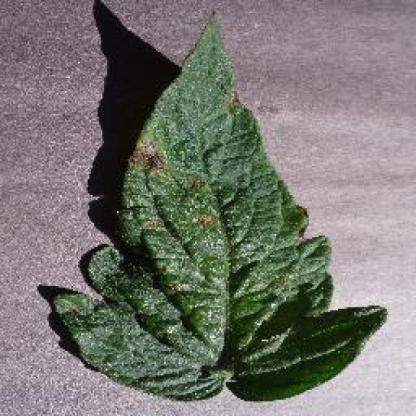Tomato_Blight: (59, 12, 385, 392)
